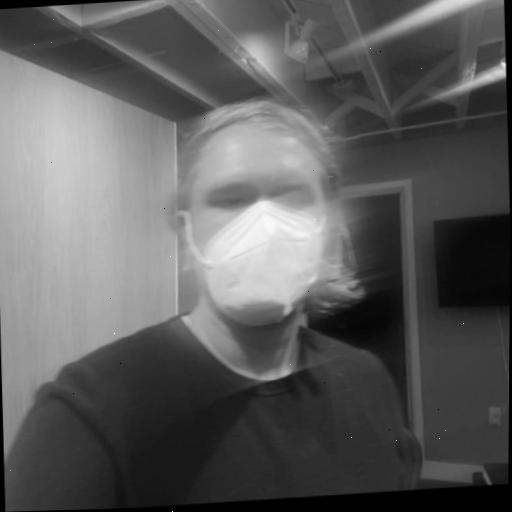mask: (156, 74, 365, 333)
